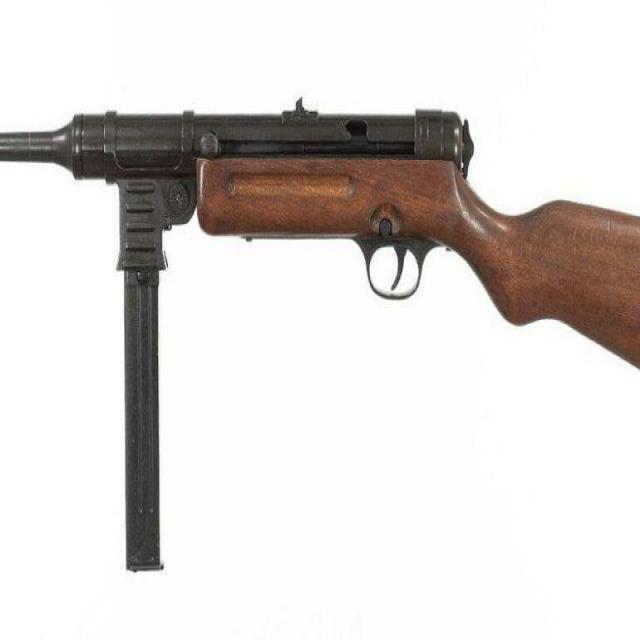firearm: (0, 104, 640, 571)
